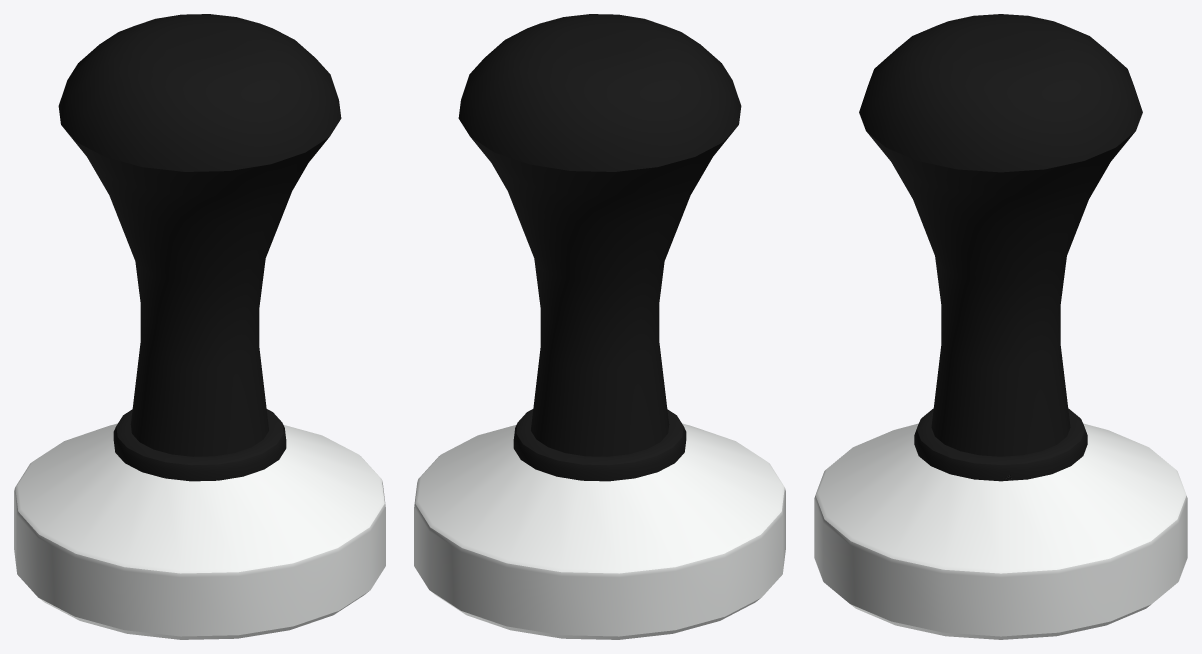
Rendered from coffee_tamper.glb.
3 views of the same model, side by side, from view 1: azimuth 30°, elevation 25°; view 2: azimuth 150°, elevation 25°; view 3: azimuth 270°, elevation 25° (orthographic).
Parts seen in each view (by area): view 1: defaultMaterial.001; view 2: defaultMaterial.001; view 3: defaultMaterial.001.
Part boxes in pixels (x1,y1,x2,y2): defaultMaterial.001: (14,14,385,639); defaultMaterial.001: (414,14,785,639); defaultMaterial.001: (814,14,1187,639).
Size of the model in its own units: 0.9975 by 1.54 by 0.9975.
1 material, 1 textured.
